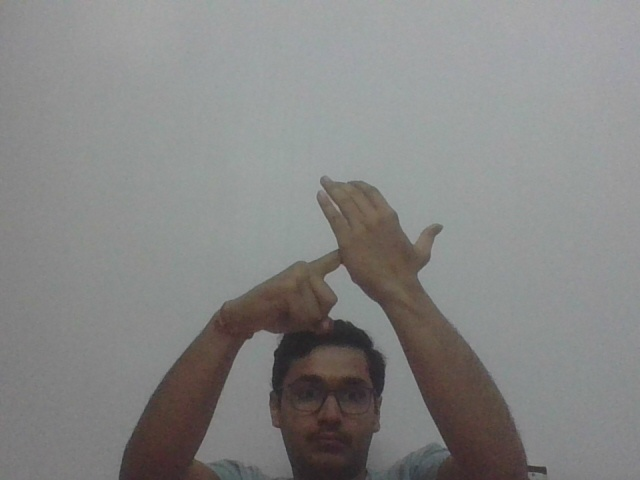R: (266, 171, 443, 326)
